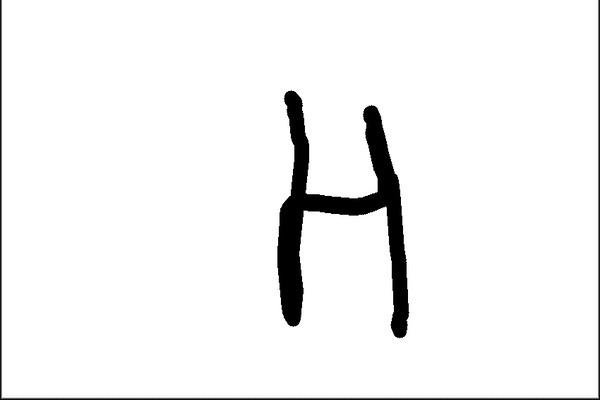H: (270, 83, 413, 342)
